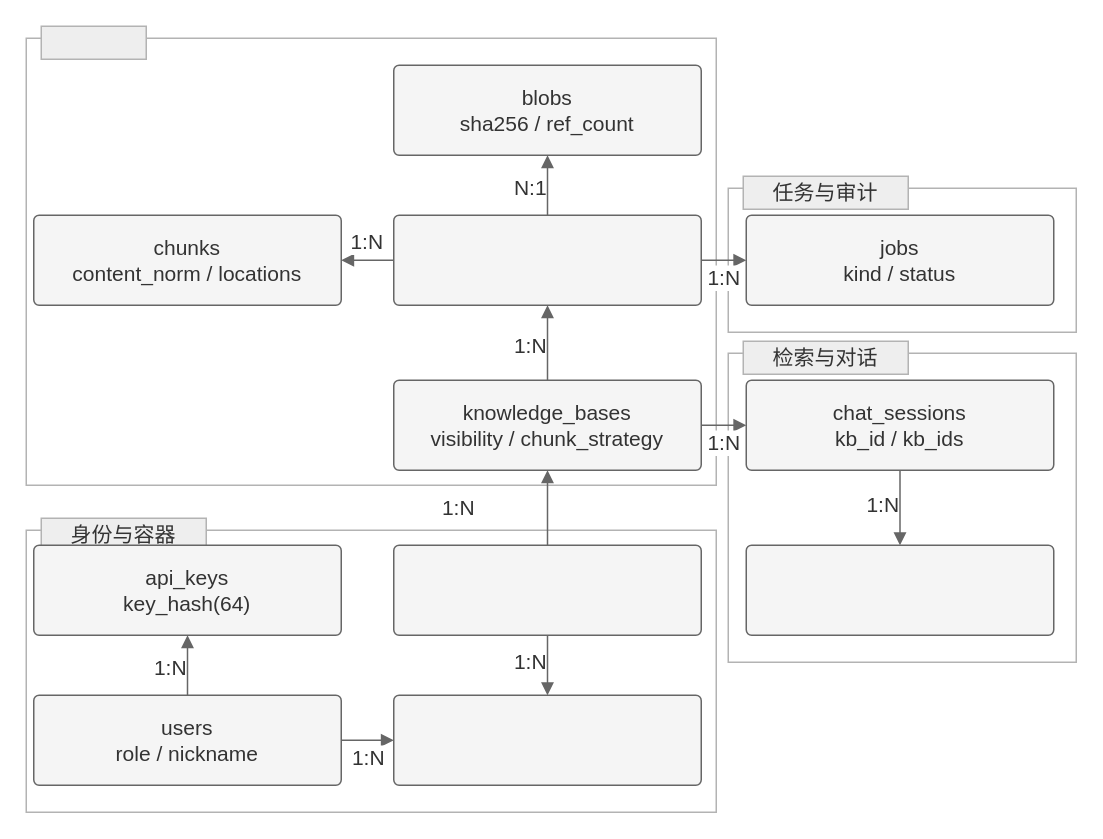
This 1103x839 diagram has some shape labels left out. Here are the shapes that lost their labels. From the top down, the centre of each, then its label:
[93,42]: 内容
[546,259]: documents is_current / version_id
[546,589]: workspaces deleted_at
[899,589]: chat_messages citations
[546,739]: workspace_members role
